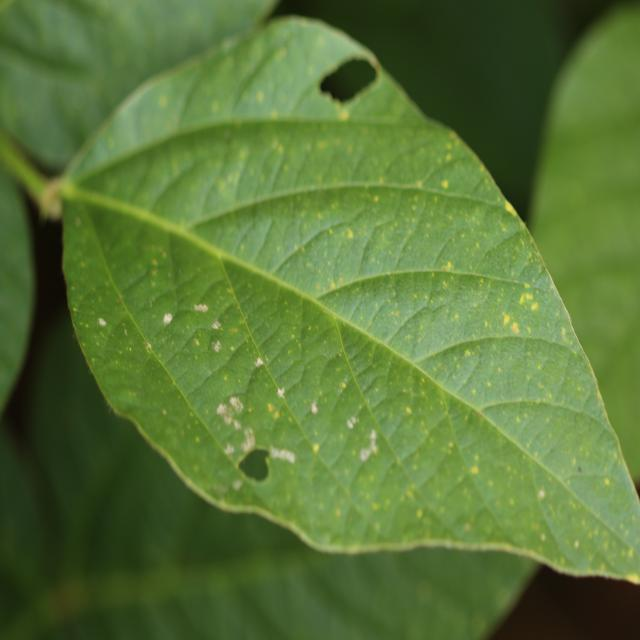Soybean: (30, 16, 640, 588)
downey_mildew: (112, 253, 591, 519), (64, 189, 285, 500), (419, 325, 638, 567), (59, 29, 259, 177), (292, 320, 437, 520), (212, 313, 359, 484), (201, 321, 335, 464), (405, 403, 524, 547), (406, 271, 551, 383), (176, 480, 416, 545), (60, 195, 141, 384), (149, 219, 250, 360), (539, 264, 607, 428), (95, 292, 202, 386), (232, 30, 343, 118), (540, 472, 635, 569), (227, 287, 309, 399), (406, 192, 506, 271), (20, 567, 127, 632), (327, 305, 371, 457), (311, 388, 383, 479), (218, 390, 292, 476), (158, 298, 231, 379), (294, 219, 376, 288), (190, 134, 257, 211), (350, 212, 427, 273), (319, 55, 378, 105), (117, 254, 167, 304), (214, 394, 249, 445), (237, 446, 271, 483), (507, 288, 539, 327), (358, 50, 383, 85), (242, 359, 266, 395), (40, 185, 64, 220), (208, 327, 228, 354), (567, 469, 603, 481), (240, 429, 256, 454), (326, 86, 346, 106), (230, 396, 243, 413), (211, 482, 227, 495), (504, 201, 517, 215), (162, 311, 173, 326), (194, 302, 209, 313), (339, 378, 349, 392), (502, 312, 512, 326), (224, 443, 234, 456), (216, 403, 226, 416), (158, 95, 168, 108), (256, 90, 265, 103), (232, 479, 242, 490), (339, 109, 349, 120), (511, 321, 519, 334), (254, 357, 263, 368), (213, 341, 221, 353), (632, 572, 640, 584), (212, 320, 221, 330), (97, 317, 106, 327), (277, 387, 285, 398), (346, 228, 354, 239), (445, 261, 453, 271), (471, 465, 479, 475), (538, 489, 546, 499), (441, 179, 449, 189), (234, 419, 241, 430), (525, 292, 533, 301), (416, 509, 423, 519), (464, 522, 471, 532), (531, 302, 538, 311), (604, 477, 611, 486), (519, 295, 525, 305), (75, 217, 81, 227), (145, 342, 152, 350), (342, 376, 348, 385), (465, 349, 471, 357), (561, 327, 566, 336), (574, 539, 579, 548), (194, 339, 200, 346), (152, 259, 158, 266), (231, 327, 238, 333), (477, 412, 483, 419), (406, 406, 411, 414), (541, 533, 546, 541), (374, 195, 379, 203), (487, 381, 492, 388), (471, 388, 476, 395), (454, 313, 459, 320), (123, 328, 128, 335), (442, 264, 447, 271), (578, 466, 583, 473), (162, 409, 167, 415), (484, 320, 488, 327), (230, 346, 235, 351), (291, 333, 295, 339), (224, 375, 228, 381), (308, 326, 312, 332), (338, 352, 342, 358), (397, 311, 401, 317), (117, 298, 121, 304), (388, 271, 392, 277), (73, 307, 77, 312), (85, 323, 89, 328), (129, 347, 132, 352)
